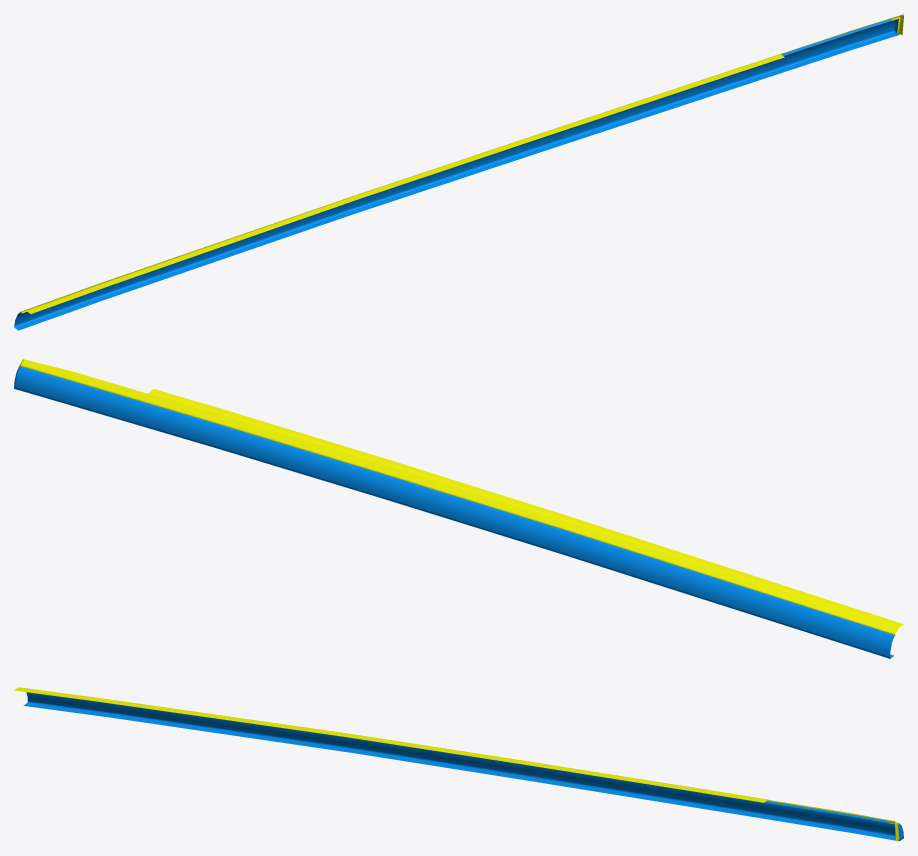
Rendered from Door_f_L_BODY_tiao02_socket_door_fr.glb.
3 renders of one model, top to bottom at view 1: azimuth 30°, elevation 25°; view 2: azimuth 150°, elevation 25°; view 3: azimuth 330°, elevation 25°, orthographic. The views are drawn at different scales.
Parts seen in each view (by area): view 1: door007; view 2: door007; view 3: door007.
Boxes of the visible parts, box(x1,y1,x2,y2) form: door007: box(14, 14, 903, 330); door007: box(14, 359, 903, 658); door007: box(14, 687, 903, 841).
Bounding box in the file's own units: 0.9389 × 0.0941 × 0.0496.
